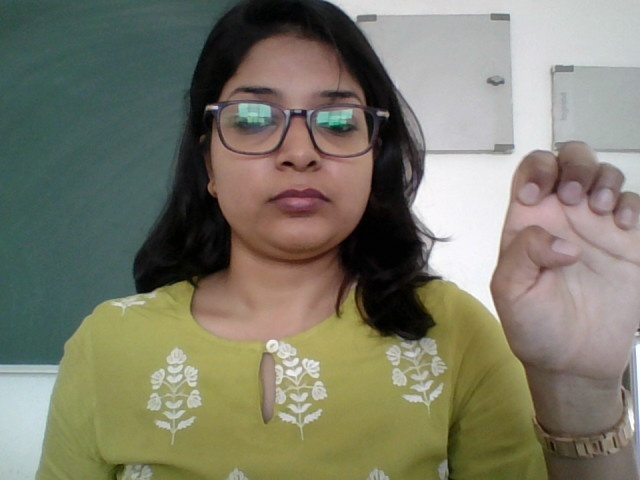E: (489, 138, 640, 436)
